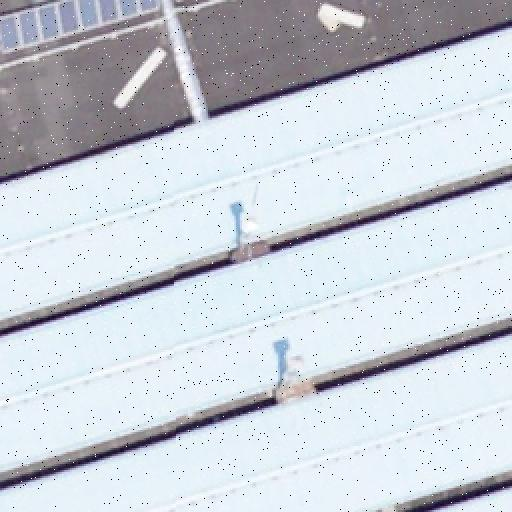solar-panel: (0, 0, 160, 52)
